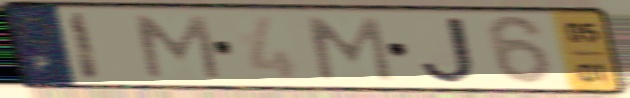4: (242, 13, 303, 84)
6: (482, 13, 560, 90)
I: (66, 9, 106, 84)
J: (417, 14, 481, 86)
M: (303, 15, 398, 84), (130, 13, 225, 82)
